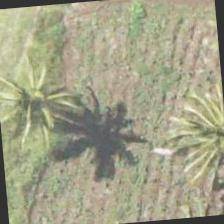Kelapa_Sawit: (0, 50, 81, 147)
